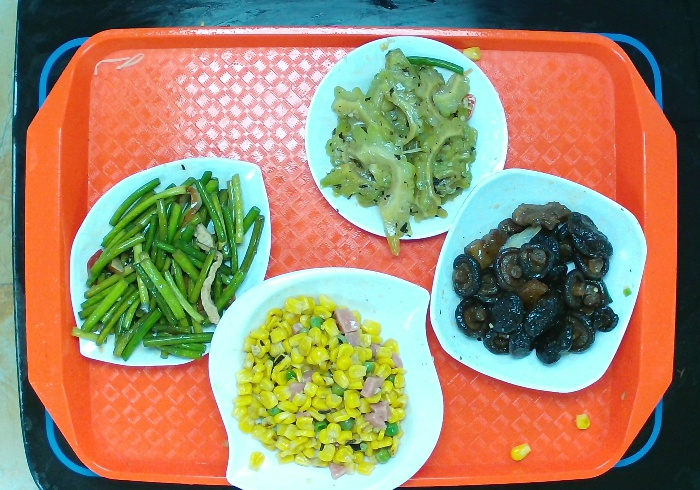RJxy-Da_Du_Pan: (65, 152, 275, 376)
RJxy-Shuang_Jiao_Pan: (204, 262, 448, 490)
RJxy-Si_Fang_Wan: (426, 164, 651, 400)
RJxy-Xiao_Yuan_Die: (300, 32, 511, 244)
